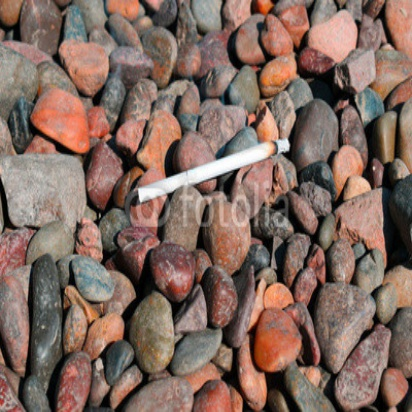cigarette: (130, 135, 296, 207)
